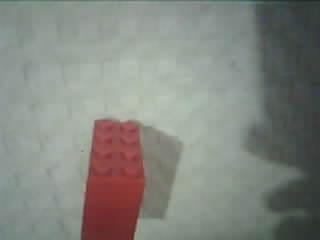lego: (80, 117, 146, 240)
